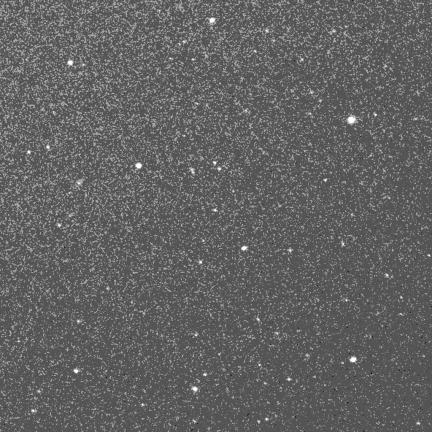blob: (347, 116, 355, 124), (136, 163, 143, 170), (242, 246, 248, 252), (210, 18, 216, 24), (350, 357, 356, 362), (68, 60, 73, 65), (192, 387, 198, 391), (73, 369, 79, 373), (213, 161, 217, 166), (218, 167, 222, 172), (199, 260, 203, 265), (203, 373, 208, 377), (258, 363, 262, 367), (46, 145, 50, 149), (57, 223, 61, 227), (27, 150, 31, 154), (32, 409, 36, 413), (257, 420, 261, 424), (341, 362, 345, 365), (257, 317, 260, 321), (416, 422, 420, 425), (265, 418, 269, 421), (38, 390, 41, 393), (427, 254, 430, 257), (287, 378, 291, 380)
